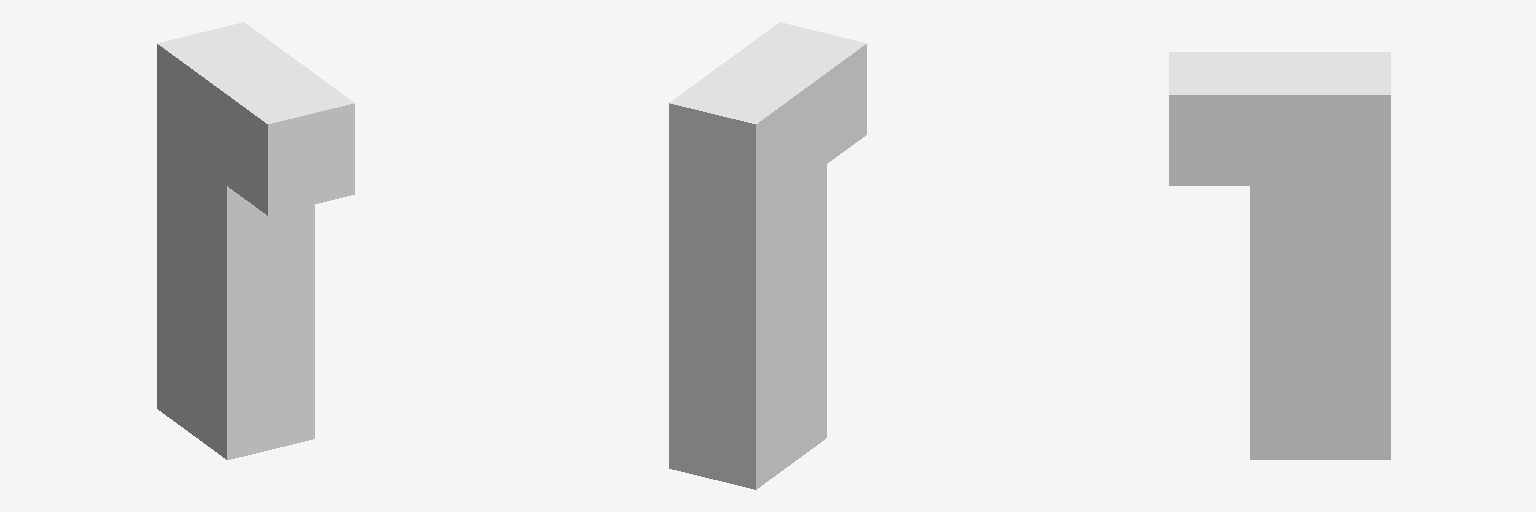
File: leg-lower-r.obj
3 renders of one model, left to right at view 1: azimuth 30°, elevation 25°; view 2: azimuth 150°, elevation 25°; view 3: azimuth 270°, elevation 25°, orthographic.
Visible parts, largest first — view 1: _9; view 2: _9; view 3: _9.
Boxes of the visible parts, x1,y1,x2,y2 form: _9: [157, 22, 354, 459]; _9: [669, 22, 866, 489]; _9: [1169, 52, 1390, 459].
Bounding box in the file's own units: 5 × 20 × 11.